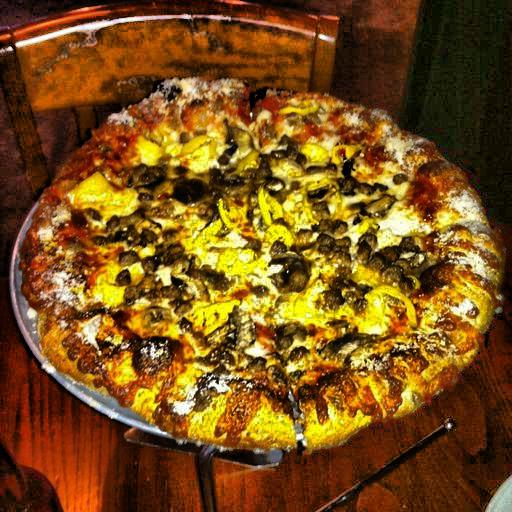pizza: (12, 66, 503, 453)
